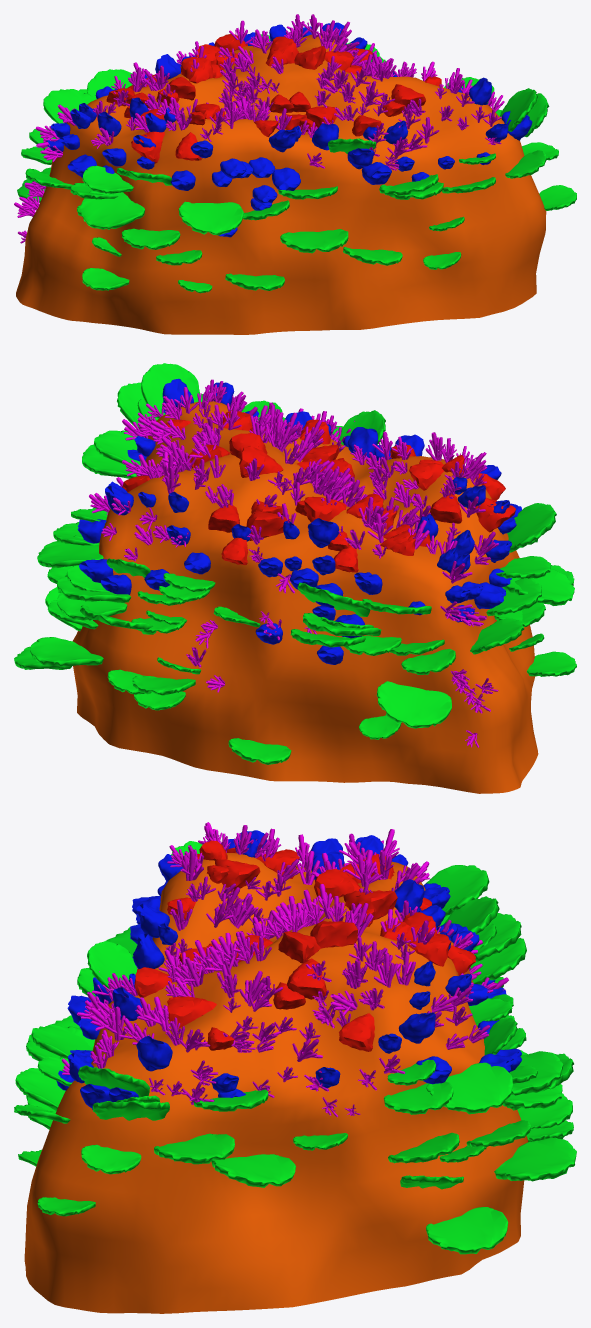
File: Rif-1 (1).fbx
3 views of the same model, one above another, from view 1: azimuth 30°, elevation 25°; view 2: azimuth 150°, elevation 25°; view 3: azimuth 270°, elevation 25° (orthographic). The views are drawn at different scales.
Parts seen in each view (by area): view 1: Cylinder.006, Cylinder.006|Circle.001|Dupli|58.1, Cylinder.006|Circle.001|Dupli|5.1, Cylinder.006|Circle.001|Dupli|55.1, Cylinder.006|Circle.001|Dupli|9.1, Cylinder.006|Circle.001|Dupli|35.1, Cylinder.006|Circle.001|Dupli|29.1, Cylinder.006|Circle.001|Dupli|16.1, Cylinder.006|Circle.001|Dupli|22.1, Cylinder.006|Circle.001|Dupli|43.1, Cylinder.006|Circle.001|Dupli|52.1, Cylinder.006|Circle.001|Dupli|3.1 (+29 smaller); view 2: Cylinder.006, Cylinder.006|Circle.001|Dupli|31.1, Cylinder.006|Circle.001|Dupli|67.1, Cylinder.006|Circle.001|Dupli|16.1, Cylinder.006|Circle.001|Dupli|40.1, Cylinder.006|Circle.001|Dupli|10.1, Cylinder.006|Circle.001|Dupli|58.1, Cylinder.006|Circle.001|Dupli|41.1, Cylinder.006|Circle.001|Dupli|60.1, Cylinder.006|Circle.001|Dupli|13.1, Cylinder.006|Circle.001|Dupli|21.1, Cylinder.006|Circle.001|Dupli|65.1 (+33 smaller); view 3: Cylinder.006, Cylinder.006|Circle.001|Dupli|17.1, Cylinder.006|Circle.001|Dupli|10.1, Cylinder.006|Circle.001|Dupli|67.1, Cylinder.006|Circle.001|Dupli|2.1, Cylinder.006|Circle.001|Dupli|35.1, Cylinder.006|Circle.001|Dupli|4.1, Cylinder.006|Circle.001|Dupli|36.1, Cylinder.006|Circle.001|Dupli|12.1, Cylinder.006|Circle.001|Dupli|64.1, Cylinder.006|Circle.001|Dupli|57.1, Cylinder.006|Circle.001|Dupli|6.1 (+33 smaller).
Part boxes in pixels (bbox=[...]): Cylinder.006: bbox=[16, 34, 546, 334]; Cylinder.006|Circle.001|Dupli|58.1: bbox=[80, 190, 144, 229]; Cylinder.006|Circle.001|Dupli|5.1: bbox=[178, 201, 243, 235]; Cylinder.006|Circle.001|Dupli|55.1: bbox=[280, 229, 348, 253]; Cylinder.006|Circle.001|Dupli|9.1: bbox=[121, 228, 180, 249]; Cylinder.006|Circle.001|Dupli|35.1: bbox=[43, 89, 95, 123]; Cylinder.006|Circle.001|Dupli|29.1: bbox=[82, 165, 133, 193]; Cylinder.006|Circle.001|Dupli|16.1: bbox=[500, 88, 537, 131]; Cylinder.006|Circle.001|Dupli|22.1: bbox=[82, 268, 129, 290]; Cylinder.006|Circle.001|Dupli|43.1: bbox=[225, 273, 284, 290]; Cylinder.006|Circle.001|Dupli|52.1: bbox=[343, 247, 402, 265]; Cylinder.006|Circle.001|Dupli|3.1: bbox=[539, 185, 576, 210]; Cylinder.006: bbox=[73, 401, 538, 793]; Cylinder.006|Circle.001|Dupli|31.1: bbox=[376, 681, 451, 728]; Cylinder.006|Circle.001|Dupli|67.1: bbox=[30, 637, 103, 667]; Cylinder.006|Circle.001|Dupli|16.1: bbox=[140, 363, 199, 418]; Cylinder.006|Circle.001|Dupli|40.1: bbox=[507, 503, 556, 552]; Cylinder.006|Circle.001|Dupli|10.1: bbox=[37, 535, 103, 568]; Cylinder.006|Circle.001|Dupli|58.1: bbox=[503, 569, 574, 605]; Cylinder.006|Circle.001|Dupli|41.1: bbox=[228, 738, 291, 764]; Cylinder.006|Circle.001|Dupli|60.1: bbox=[470, 618, 524, 654]; Cylinder.006|Circle.001|Dupli|13.1: bbox=[94, 430, 140, 465]; Cylinder.006|Circle.001|Dupli|21.1: bbox=[486, 578, 541, 616]; Cylinder.006|Circle.001|Dupli|65.1: bbox=[57, 593, 127, 620]; Cylinder.006: bbox=[24, 853, 528, 1313]; Cylinder.006|Circle.001|Dupli|17.1: bbox=[426, 1207, 508, 1254]; Cylinder.006|Circle.001|Dupli|10.1: bbox=[426, 1062, 512, 1114]; Cylinder.006|Circle.001|Dupli|67.1: bbox=[494, 1137, 576, 1181]; Cylinder.006|Circle.001|Dupli|2.1: bbox=[211, 1154, 295, 1187]; Cylinder.006|Circle.001|Dupli|35.1: bbox=[425, 865, 489, 916]; Cylinder.006|Circle.001|Dupli|4.1: bbox=[154, 1133, 234, 1164]; Cylinder.006|Circle.001|Dupli|36.1: bbox=[87, 941, 137, 988]; Cylinder.006|Circle.001|Dupli|12.1: bbox=[383, 1082, 453, 1114]; Cylinder.006|Circle.001|Dupli|64.1: bbox=[510, 1051, 563, 1095]; Cylinder.006|Circle.001|Dupli|57.1: bbox=[31, 1024, 93, 1058]; Cylinder.006|Circle.001|Dupli|6.1: bbox=[81, 1144, 141, 1174].
Size of the model in its own units: 4024 by 1949 by 3330.
